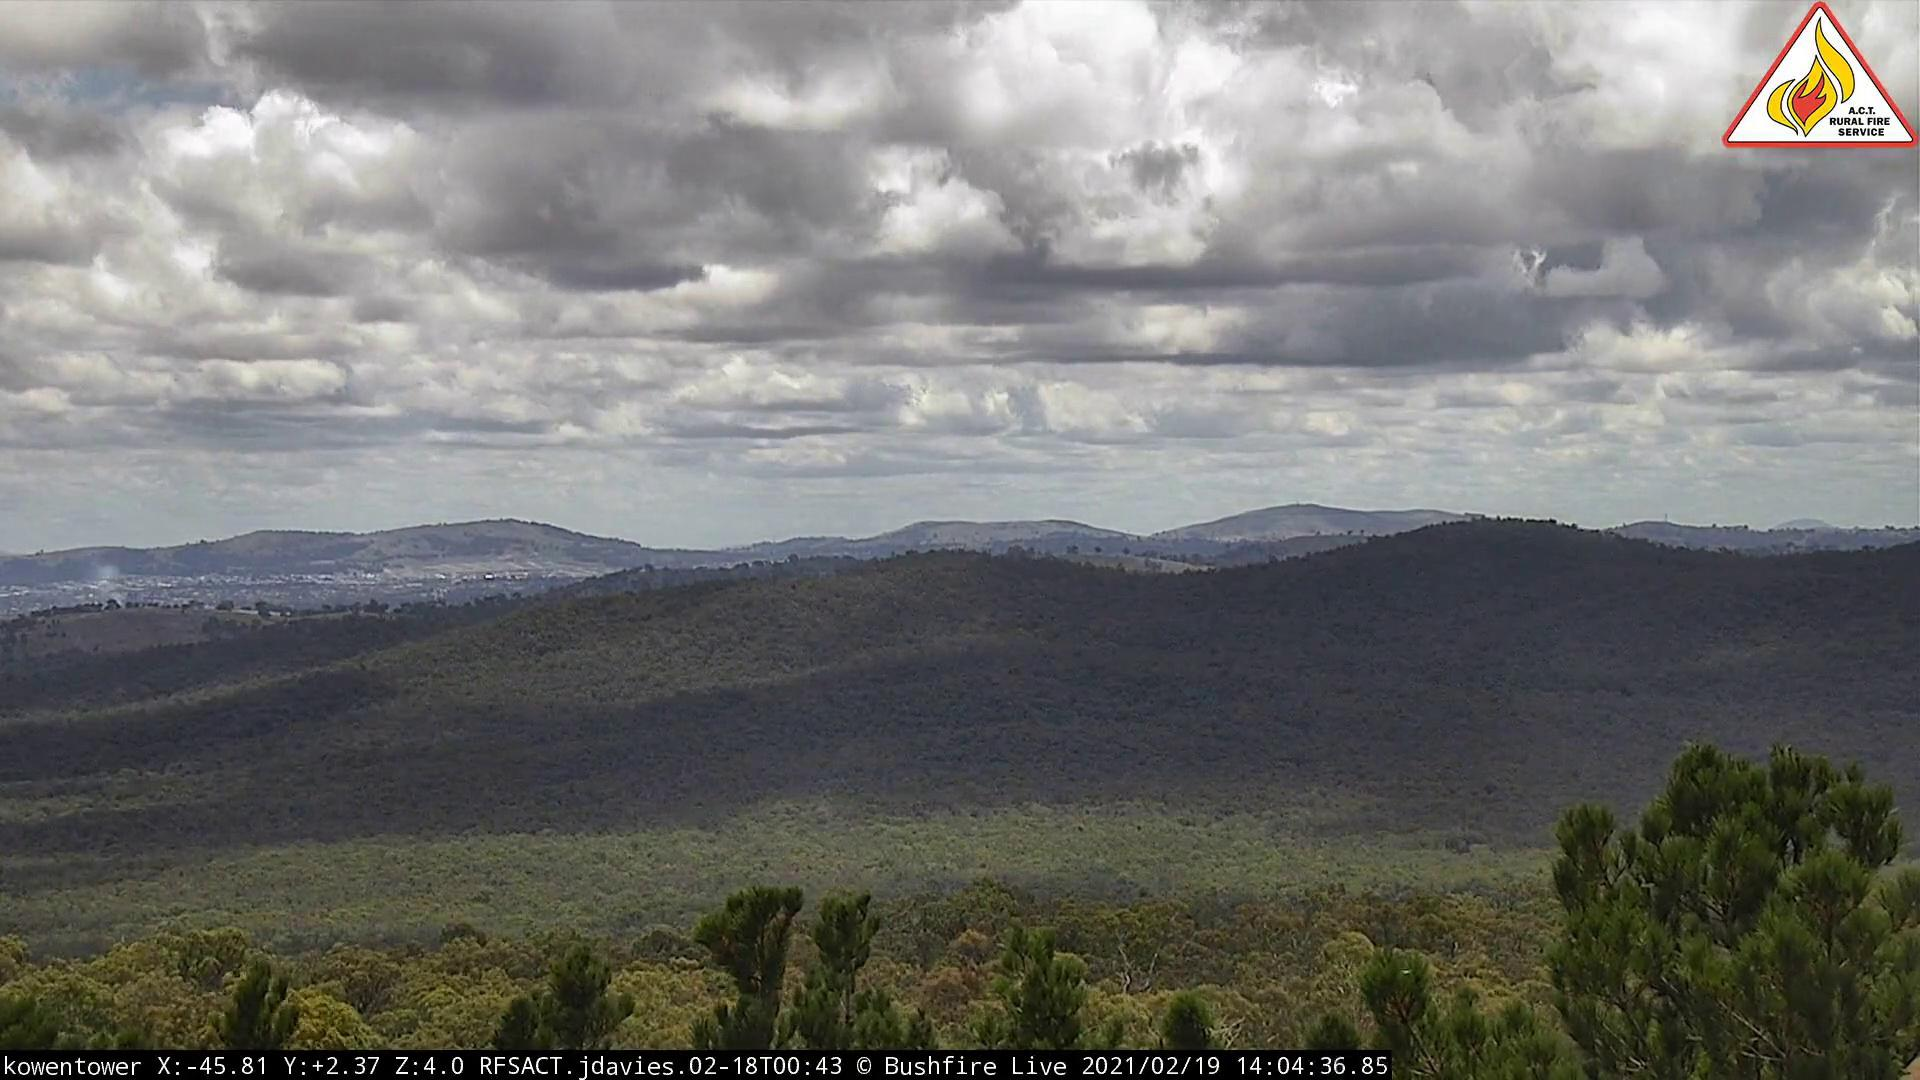Smoke: (102, 574, 138, 620)
